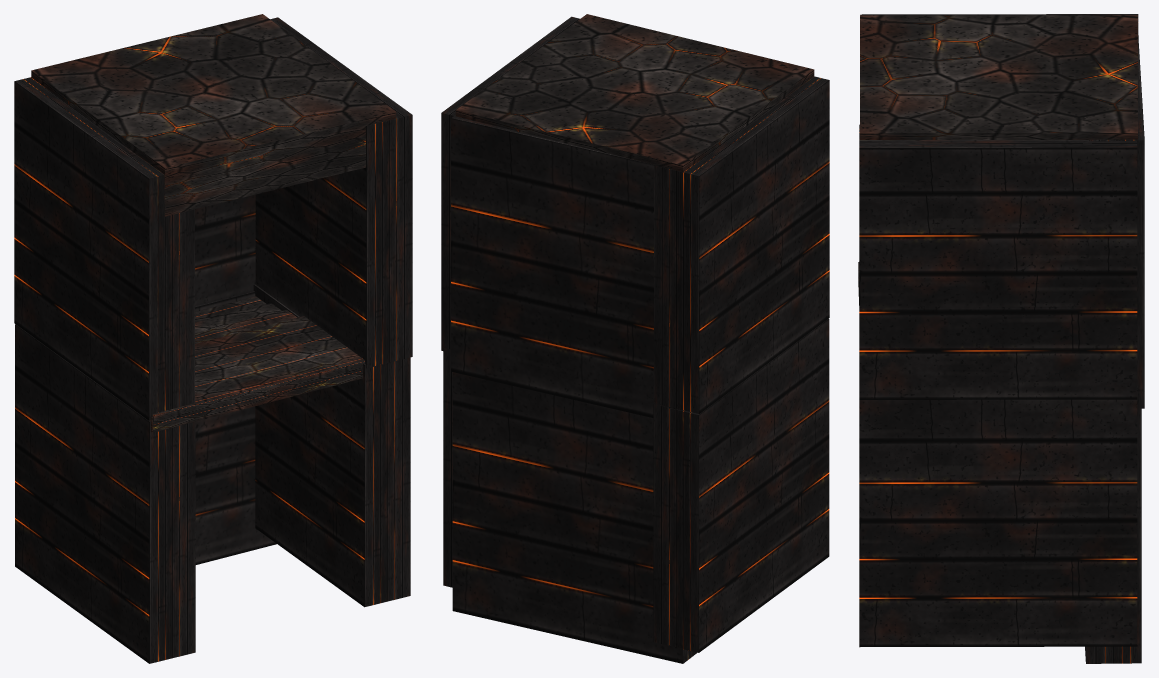
The model's file is Stairs.gltf.
3 renders of one model, left to right at view 1: azimuth 30°, elevation 25°; view 2: azimuth 150°, elevation 25°; view 3: azimuth 270°, elevation 25°, orthographic. The views are drawn at different scales.
Visible parts, largest first — view 1: 立方体.001, 立方体.005, 立方体, 立方体.004, 立方体.002, pedestal, 立方体.007, 立方体.003; view 2: 立方体.003, 立方体.007, 立方体.001, 立方体.005, 立方体, 立方体.002, 立方体.004; view 3: 立方体.002, 立方体.004, 立方体, 立方体.003, 立方体.007, 立方体.001.
Part boxes in pixels (x1,y1,x2,y2): 立方体.001: [14, 77, 194, 420]; 立方体.005: [15, 324, 195, 663]; 立方体: [31, 14, 396, 216]; 立方体.004: [253, 284, 410, 607]; 立方体.002: [255, 17, 412, 368]; pedestal: [150, 296, 364, 432]; 立方体.007: [195, 291, 276, 564]; 立方体.003: [195, 194, 255, 305]; 立方体.003: [451, 115, 681, 417]; 立方体.007: [452, 372, 696, 663]; 立方体.001: [654, 76, 829, 413]; 立方体.005: [653, 319, 829, 652]; 立方体: [455, 14, 814, 171]; 立方体.002: [441, 16, 579, 350]; 立方体.004: [443, 347, 452, 587]; 立方体.002: [859, 124, 1137, 399]; 立方体.004: [859, 399, 1137, 647]; 立方体: [860, 15, 1137, 139]; 立方体.003: [1089, 32, 1144, 408]; 立方体.007: [1085, 408, 1141, 663]; 立方体.001: [860, 14, 1138, 37].
Bounding box in the file's own units: 11.42 × 21.03 × 10.31.
Materials: 8 (8 with a texture image).
